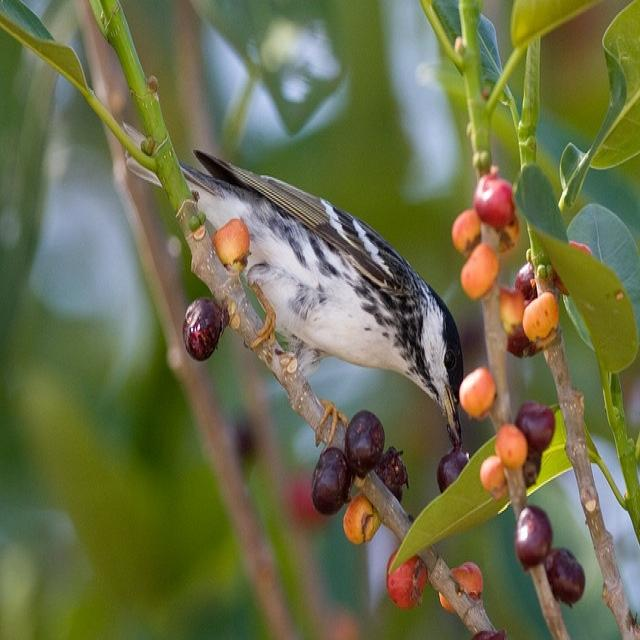bird: (169, 142, 470, 446)
